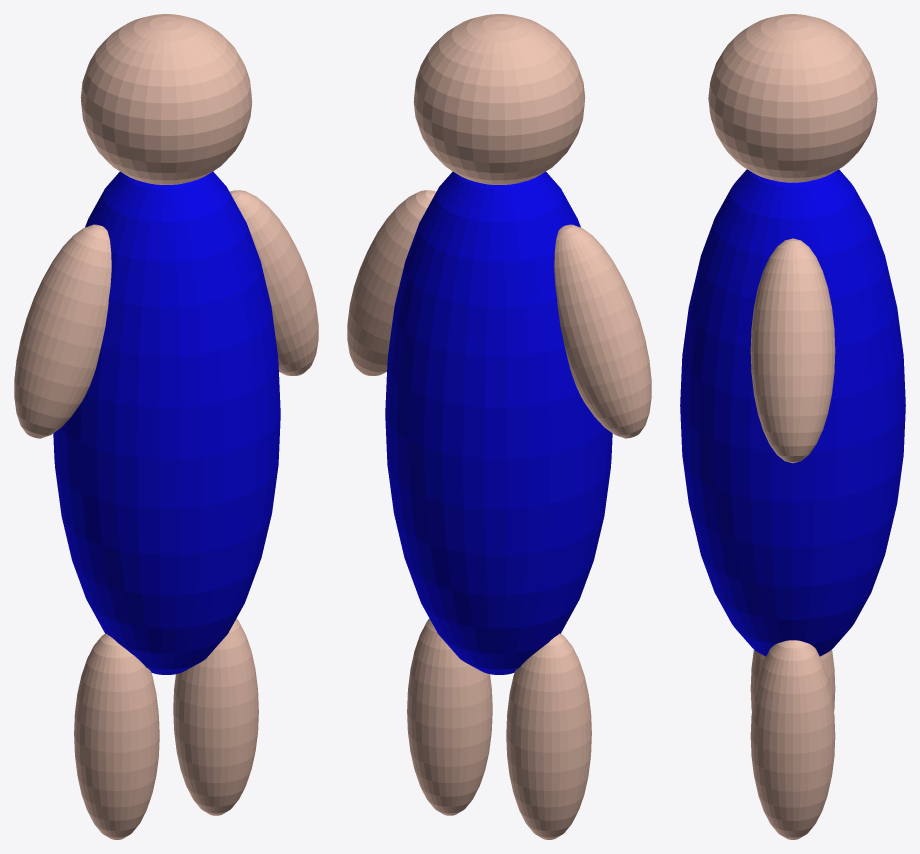
Rendered from Player.fbx.
The picture shows the model from 3 angles, left to right: view 1: azimuth 30°, elevation 25°; view 2: azimuth 150°, elevation 25°; view 3: azimuth 270°, elevation 25°; orthographic projection.
Visible parts, largest first — view 1: Sphere, Sphere.001, Sphere.002, Sphere.005, Sphere.004, Sphere.003; view 2: Sphere, Sphere.001, Sphere.002, Sphere.005, Sphere.004, Sphere.003; view 3: Sphere, Sphere.001, Sphere.003, Sphere.004, Sphere.005.
Part boxes in pixels (x1,y1,x2,y2): Sphere: [53, 171, 280, 674]; Sphere.001: [80, 14, 252, 184]; Sphere.002: [14, 224, 111, 438]; Sphere.005: [74, 633, 159, 839]; Sphere.004: [173, 618, 258, 815]; Sphere.003: [230, 190, 318, 375]; Sphere: [385, 171, 612, 674]; Sphere.001: [413, 14, 585, 184]; Sphere.002: [554, 224, 651, 438]; Sphere.005: [506, 633, 591, 839]; Sphere.004: [407, 618, 492, 815]; Sphere.003: [347, 190, 435, 375]; Sphere: [680, 169, 905, 656]; Sphere.001: [708, 14, 877, 182]; Sphere.003: [750, 238, 835, 463]; Sphere.004: [750, 640, 835, 839]; Sphere.005: [750, 649, 835, 710].
Size of the model in its own units: 596 by 1550 by 400.
